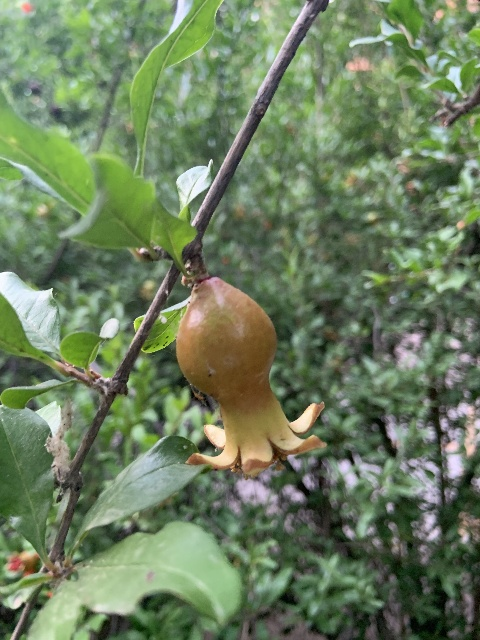early-fruit: (175, 277, 328, 479)
